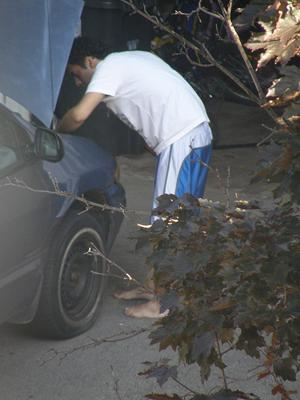person: (54, 34, 213, 319)
